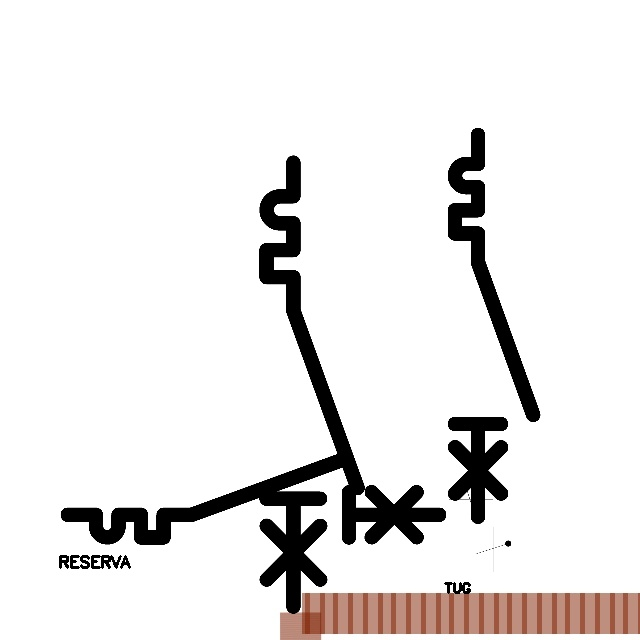interruptor_termomagnetico: (255, 151, 369, 618), (445, 125, 543, 526), (58, 451, 449, 547)
